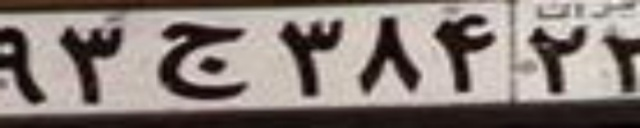2: (529, 23, 589, 93), (602, 23, 638, 93)
3: (59, 23, 131, 103), (276, 17, 342, 96)
4: (431, 13, 496, 92)
8: (360, 16, 419, 93)
9: (0, 25, 44, 104)
jim: (151, 21, 251, 99)
